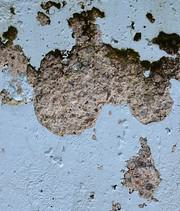Spalling: (1, 1, 180, 137), (120, 137, 164, 211), (111, 201, 121, 211)
